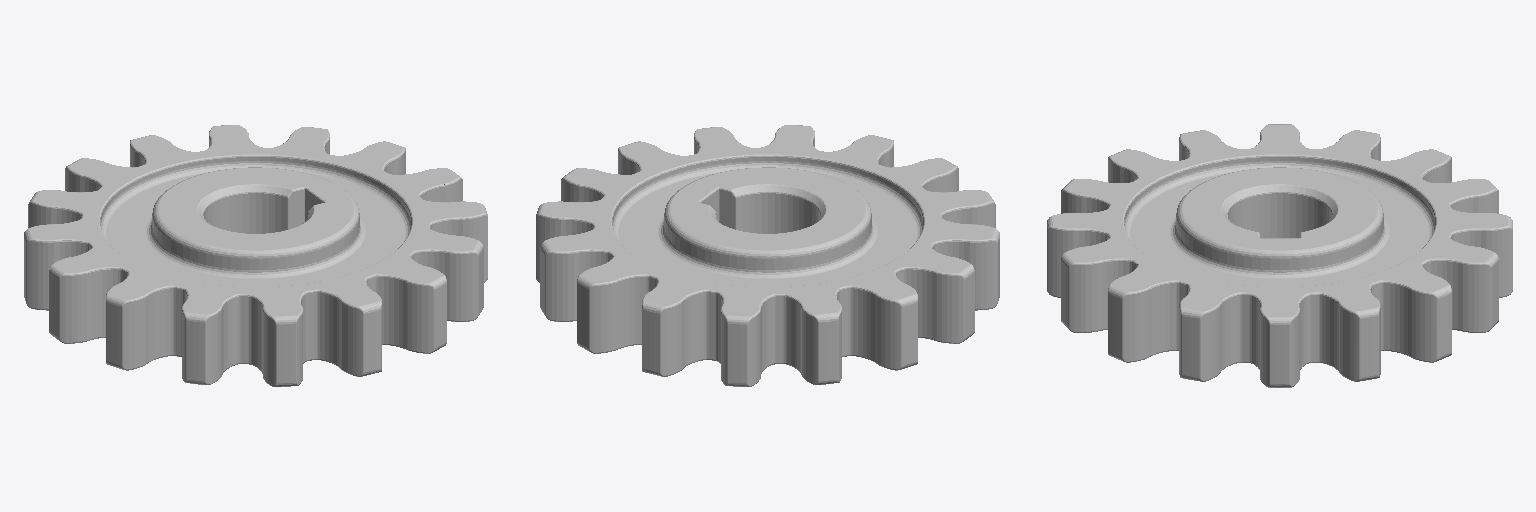
File: gear.obj
3 views of the same model, side by side, from view 1: azimuth 30°, elevation 25°; view 2: azimuth 150°, elevation 25°; view 3: azimuth 270°, elevation 25° (orthographic).
Visible parts, largest first — view 1: Gear_Spur_16T; view 2: Gear_Spur_16T; view 3: Gear_Spur_16T.
Boxes of the visible parts, <box> form: Gear_Spur_16T: <box>24,125,487,386</box>; Gear_Spur_16T: <box>536,125,999,386</box>; Gear_Spur_16T: <box>1047,124,1512,387</box>.
Size of the model in its own units: 1.12 by 0.25 by 1.12.